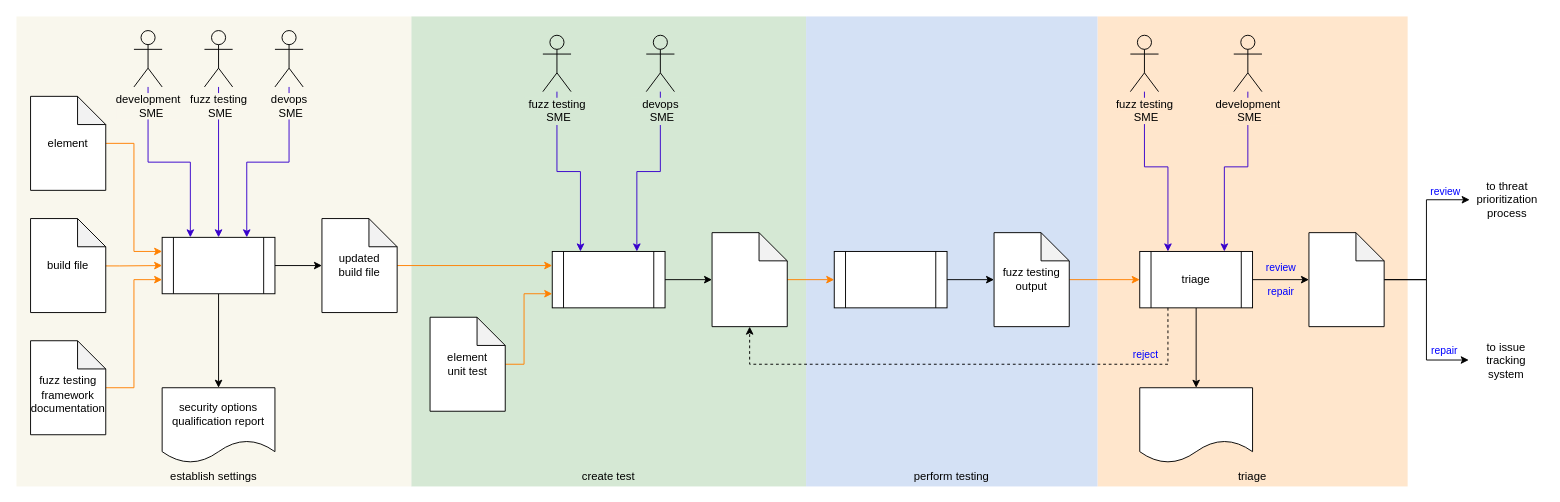
The diagram is 1560 pixels wide and 502 high, and some of its shapes have lost their labels. Here are the shapes that lost their labels. From the top down, the box of each, then its label:
(161, 236, 275, 294): establish fuzz testing settings
(551, 251, 665, 308): create fuzz test
(711, 232, 787, 327): element fuzz test
(833, 251, 947, 308): perform fuzz testing
(1308, 232, 1384, 327): triaged issues
(1139, 387, 1253, 463): fuzz testing report
